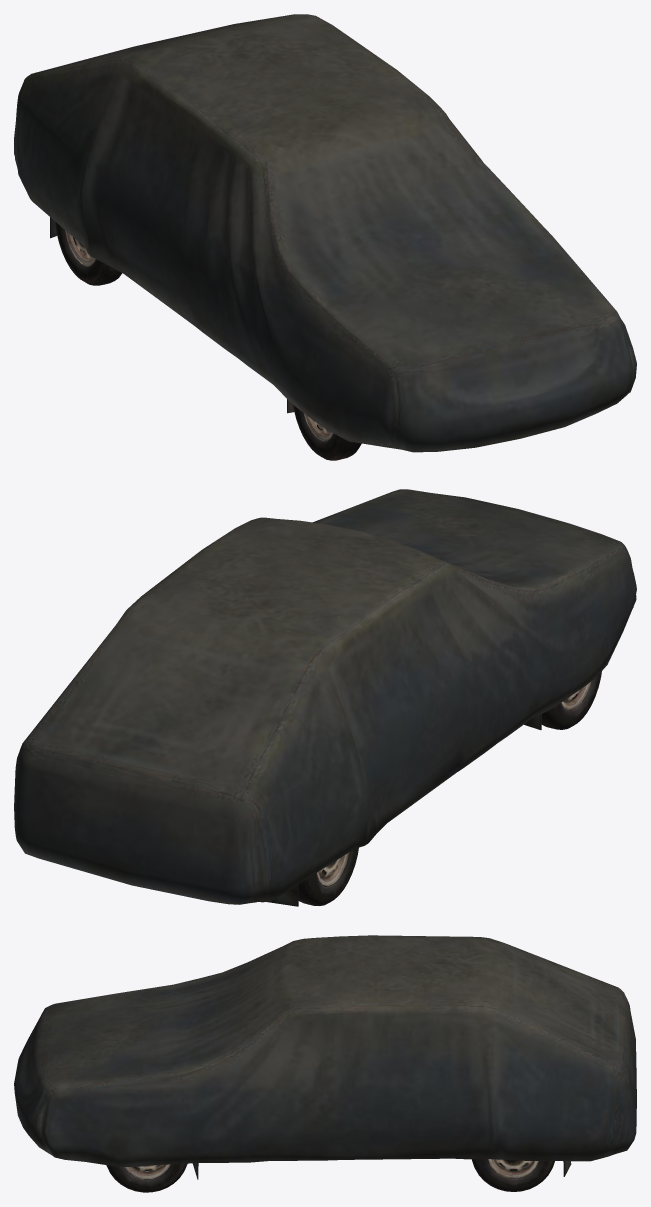
File: covered_car.glb
3 views of the same model, one above another, from view 1: azimuth 30°, elevation 25°; view 2: azimuth 150°, elevation 25°; view 3: azimuth 270°, elevation 25° (orthographic). The views are drawn at different scales.
Visible parts, largest first — view 1: covered_car; view 2: covered_car; view 3: covered_car.
Boxes of the visible parts, box(x1,y1,x2,y2) form: covered_car: box(14, 14, 636, 460); covered_car: box(14, 489, 636, 906); covered_car: box(14, 935, 636, 1192).
Bounding box in the file's own units: 1.84 × 1.45 × 4.5.
Materials: 1 (1 with a texture image).
